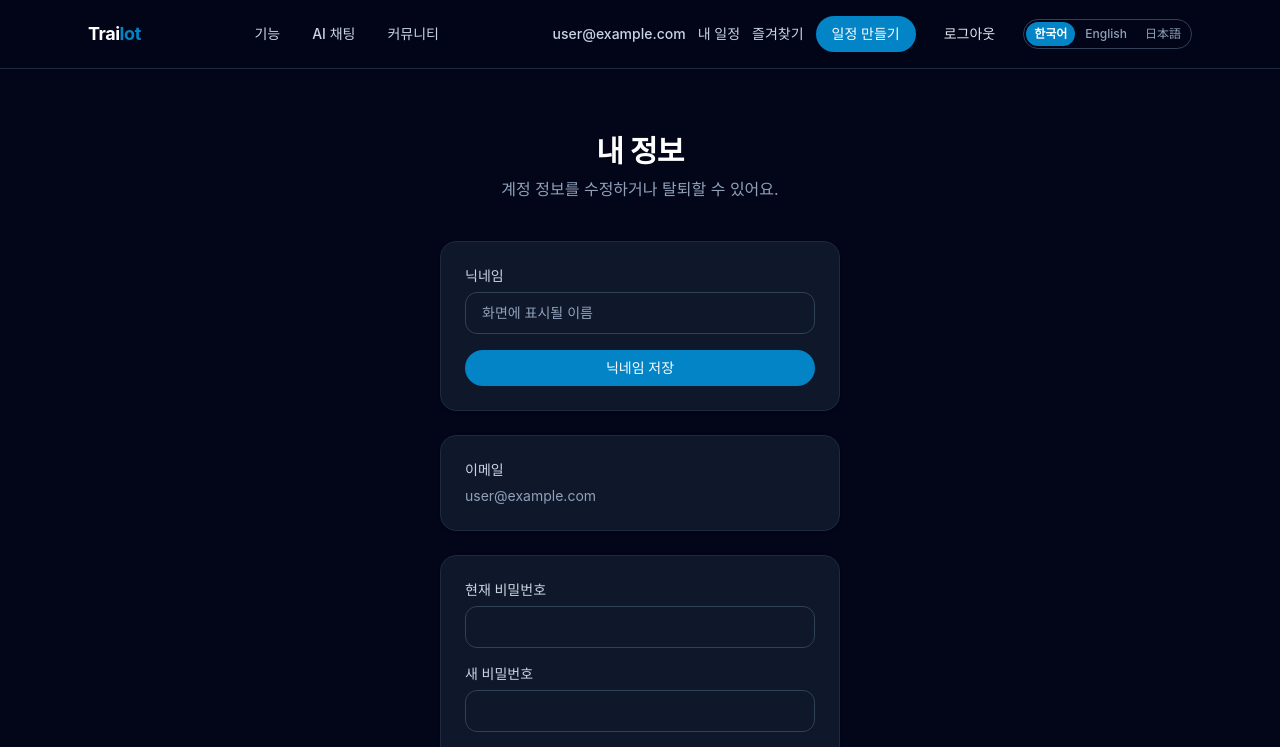
Test: AccountPage › shows a distinct error when the nickname update fails for a reason other than an empty value
The image size is (1280, 747).
Type "개굴" into the field labelled "닉네임".
click(640, 313); type("개굴")  # box [465,292,815,334]
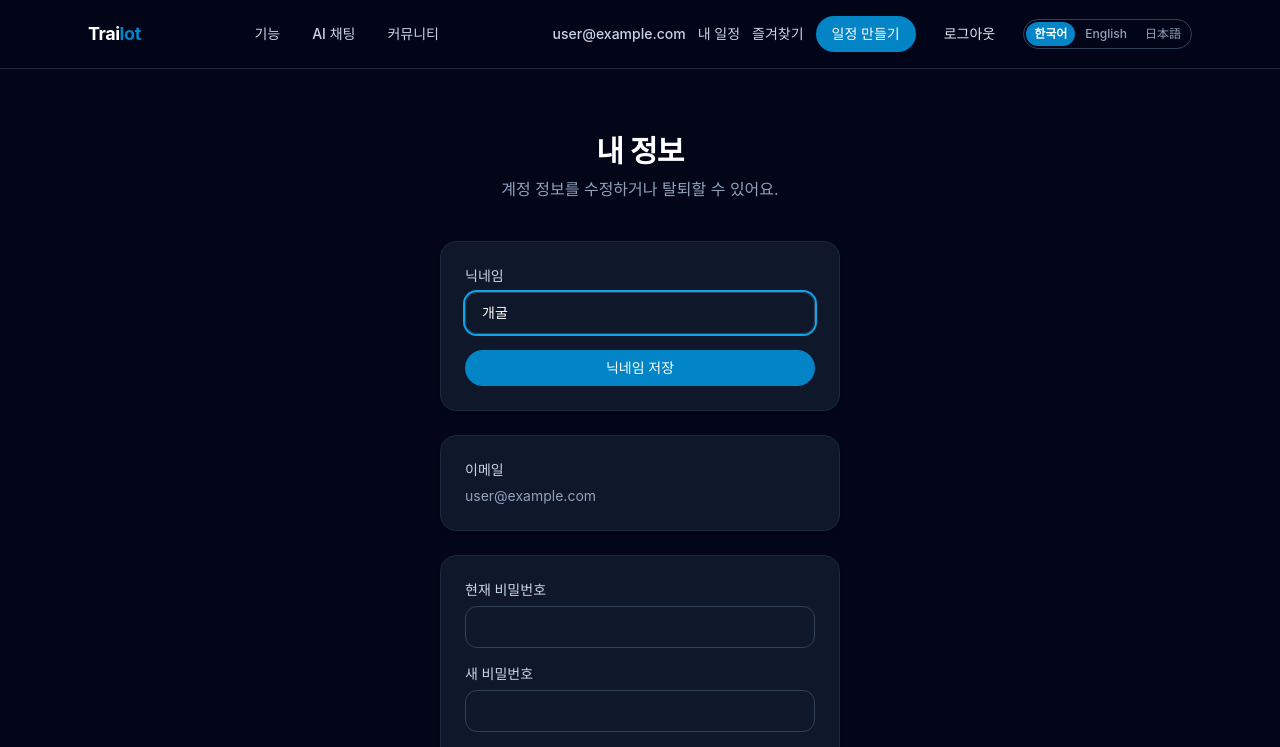
Click the button "닉네임 저장".
click(640, 368)  # box [465,350,815,386]
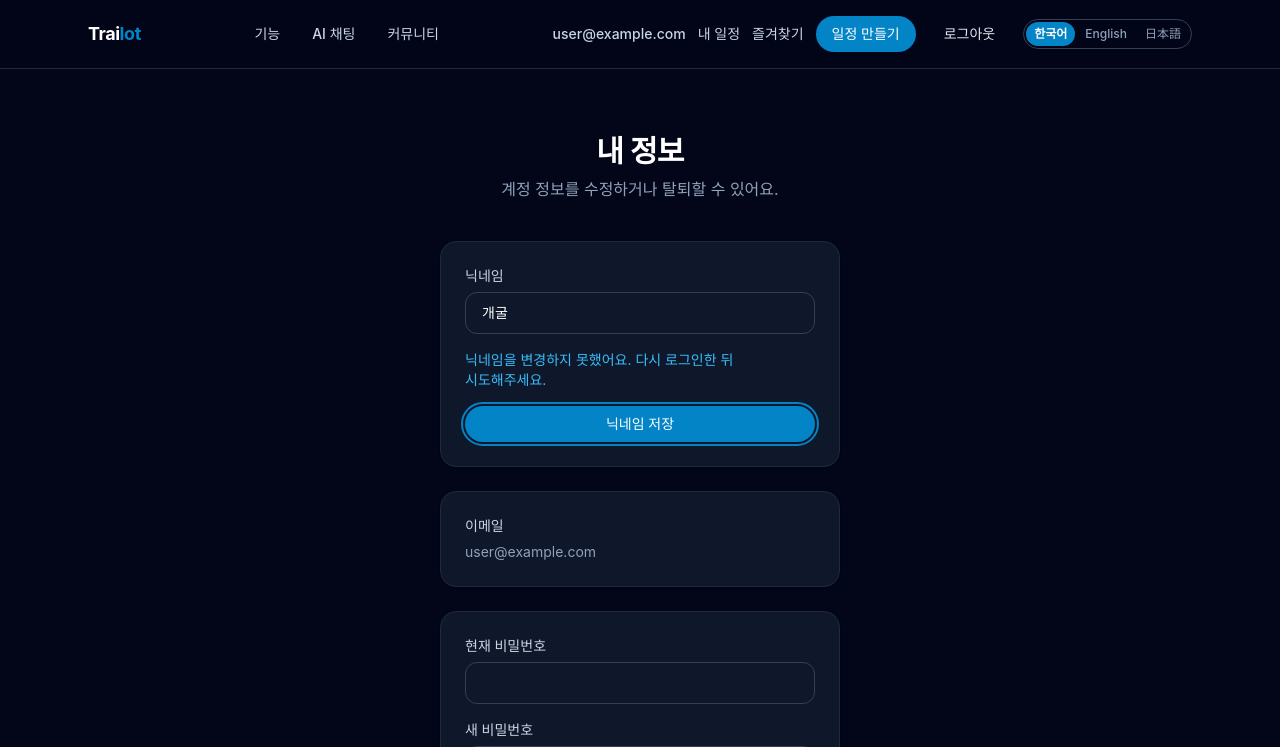
Now the text "닉네임을 변경하지 못했어요. 다시 로그인한 뒤 시도해주세요." is shown, box [465,351,734,388]
